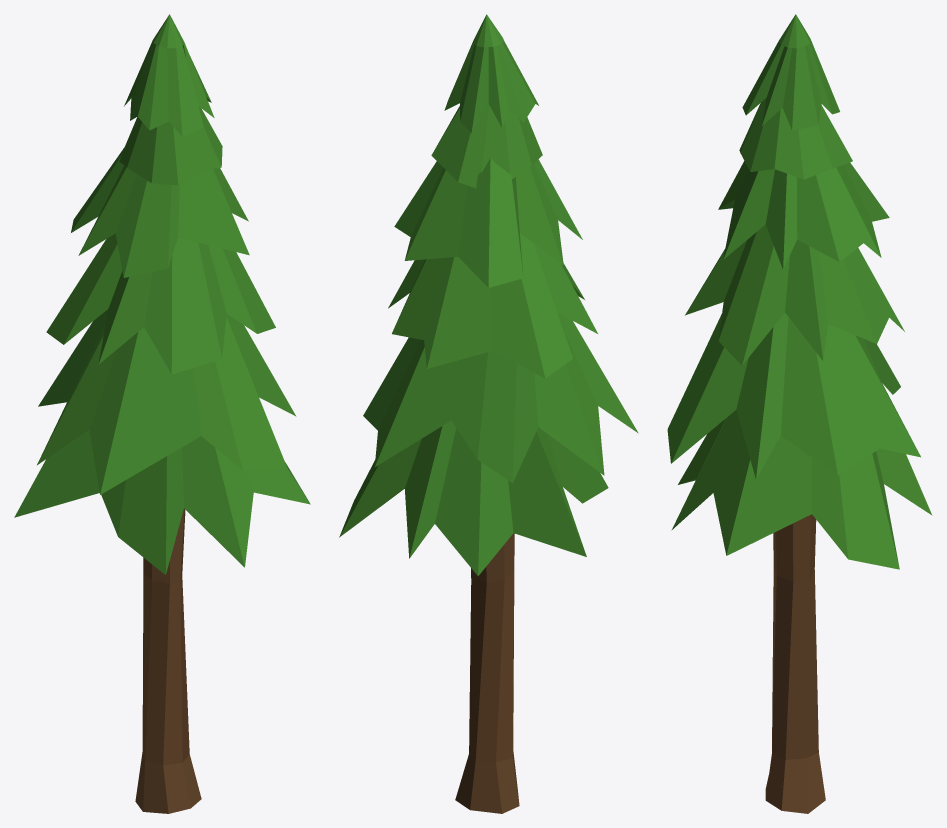
Rendered from pine_tree_1.glb.
3 renders of one model, left to right at view 1: azimuth 30°, elevation 25°; view 2: azimuth 150°, elevation 25°; view 3: azimuth 270°, elevation 25°, orthographic.
Visible parts, largest first — view 1: tree_pine_1; view 2: tree_pine_1; view 3: tree_pine_1.
Boxes of the visible parts, x1,y1,x2,y2 form: tree_pine_1: (14, 14, 310, 813); tree_pine_1: (339, 14, 638, 813); tree_pine_1: (667, 14, 932, 813).
Bounding box in the file's own units: 2.65 × 8.5 × 2.59.
